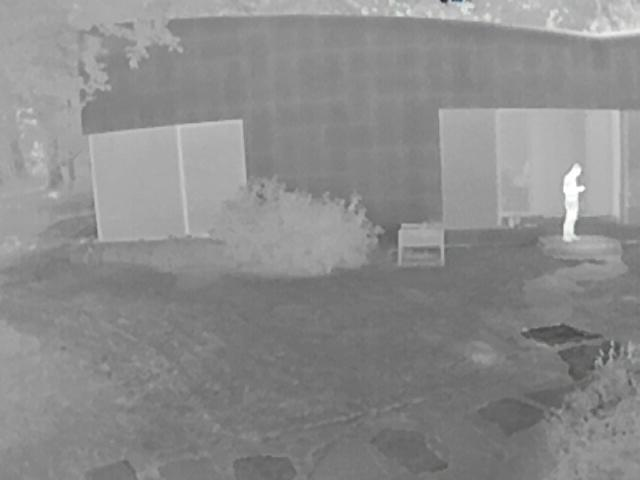person: (559, 162, 586, 244)
